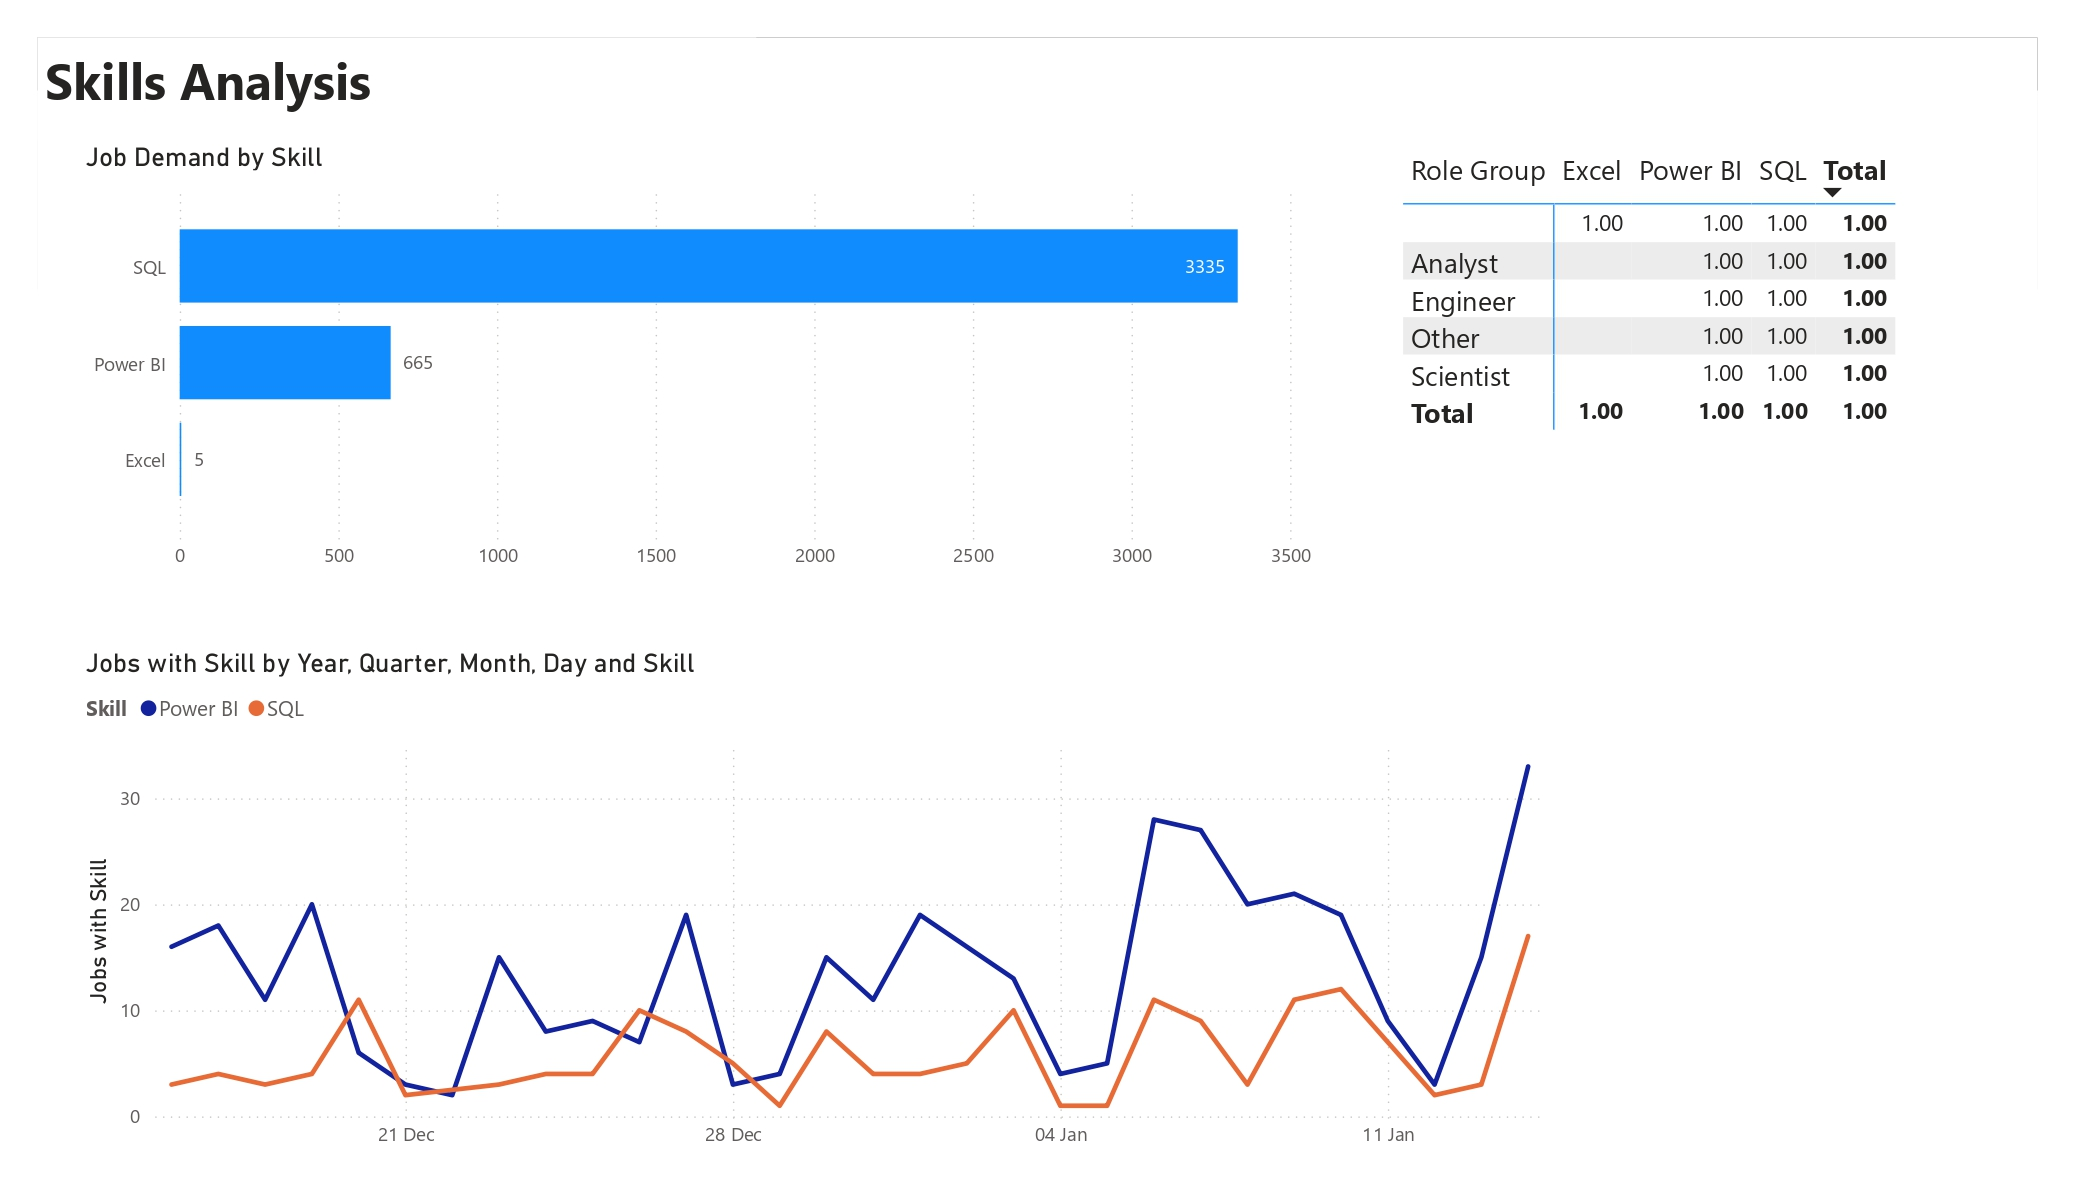

The page's visual inventory and layout, read from the dashboard file:
{"tool":"powerbi","page":{"name":"Skills Analysis","canvas":[1280,720],"ordinal":2},"visuals":[{"type":"textbox","box":[0,0,460,65.7],"z":0},{"type":"clusteredBarChart","title":"Job Demand by Skill","fields":{"Category":["FactJobSkills.Skill"],"Y":["FactJobSkills.Jobs with Skill"]},"box":[25.7,65.7,794.3,284.3],"z":1000},{"type":"pivotTable","fields":{"Rows":["FactJobs.Role Group"],"Columns":["FactJobSkills.Skill"],"Values":["FactJobSkills.Skill Job %","select","select1"]},"box":[868.6,65.7,347.1,208.6],"z":2000},{"type":"lineChart","fields":{"Series":["FactJobSkills.Skill"],"Category":["FactJobs.Posted_Date.Variation.Date Hierarchy.Year","FactJobs.Posted_Date.Variation.Date Hierarchy.Quarter","FactJobs.Posted_Date.Variation.Date Hierarchy.Month","FactJobs.Posted_Date.Variation.Date Hierarchy.Day"],"Y":["FactJobSkills.Jobs with Skill"]},"box":[25.7,390,950,330],"z":3000}]}

Visuals, with their boxes in screenshot pixels (x1, y1, x2, y2):
textbox: detection(38, 38, 756, 140)
"Job Demand by Skill" clusteredBarChart: detection(78, 140, 1319, 584)
pivotTable - FactJobs.Role Group x FactJobSkills.Skill: detection(1395, 140, 1937, 466)
lineChart - FactJobSkills.Skill x FactJobs.Posted_Date.Variation.Date Hierarchy.Year: detection(78, 647, 1562, 1162)
